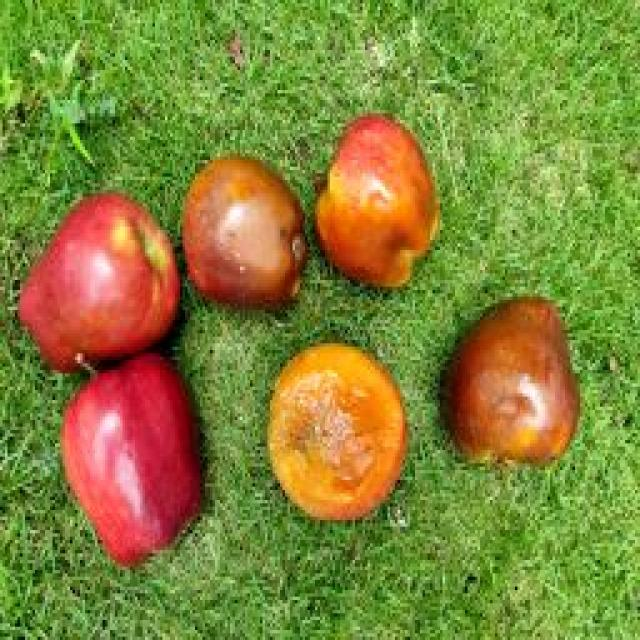Organik: (14, 134, 187, 380), (218, 342, 427, 544), (293, 100, 462, 309), (432, 268, 596, 482), (51, 354, 211, 555), (178, 128, 312, 320)
